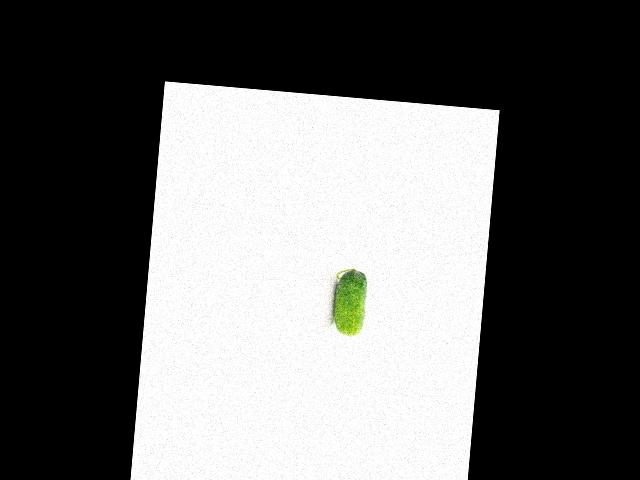cucumber: (330, 267, 368, 338)
